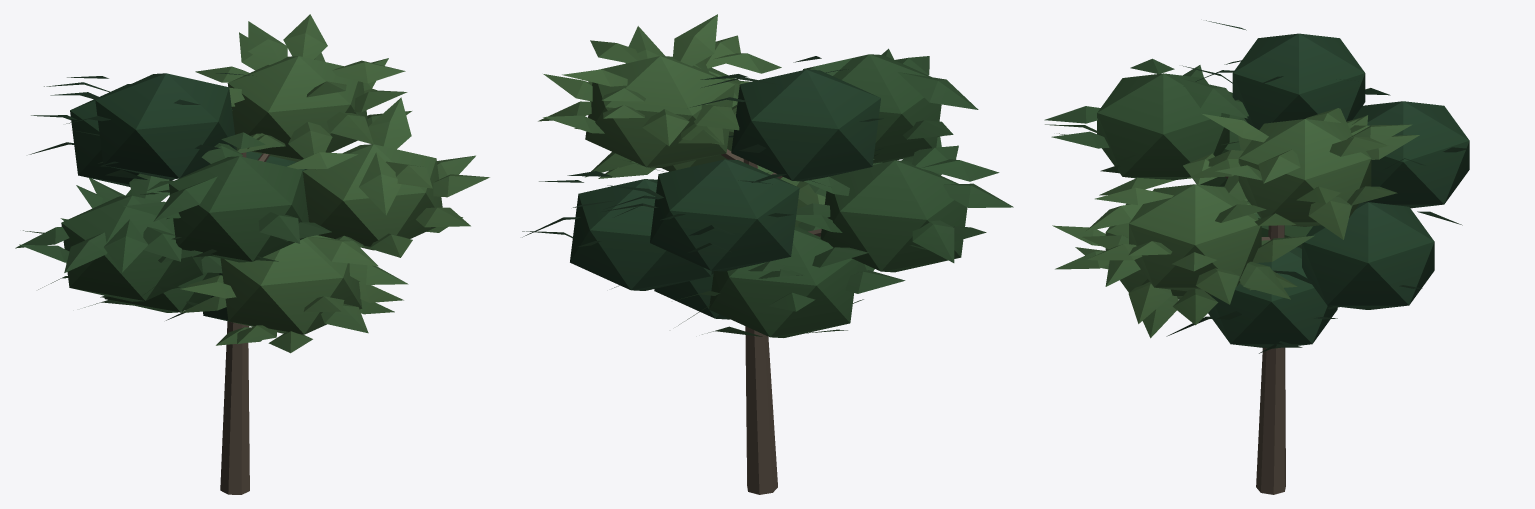
The model's file is tree-broadleaf-1-lod0.glb.
The picture shows the model from 3 angles, left to right: view 1: azimuth 30°, elevation 25°; view 2: azimuth 150°, elevation 25°; view 3: azimuth 270°, elevation 25°; orthographic projection. The views are drawn at different scales.
Visible parts, largest first — view 1: tree-broadleaf-1.007; view 2: tree-broadleaf-1.007; view 3: tree-broadleaf-1.007.
Boxes of the visible parts, x1=… form: tree-broadleaf-1.007: x1=15, y1=14, x2=489, y2=494; tree-broadleaf-1.007: x1=522, y1=14, x2=1013, y2=494; tree-broadleaf-1.007: x1=1044, y1=20, x2=1469, y2=494.
Bounding box in the file's own units: 6.96 × 6.71 × 6.77.
